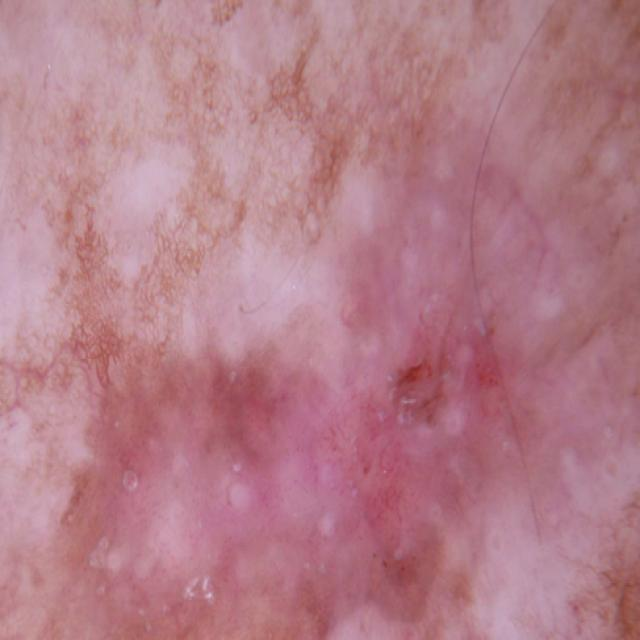Carcinoma: (49, 203, 556, 640)
